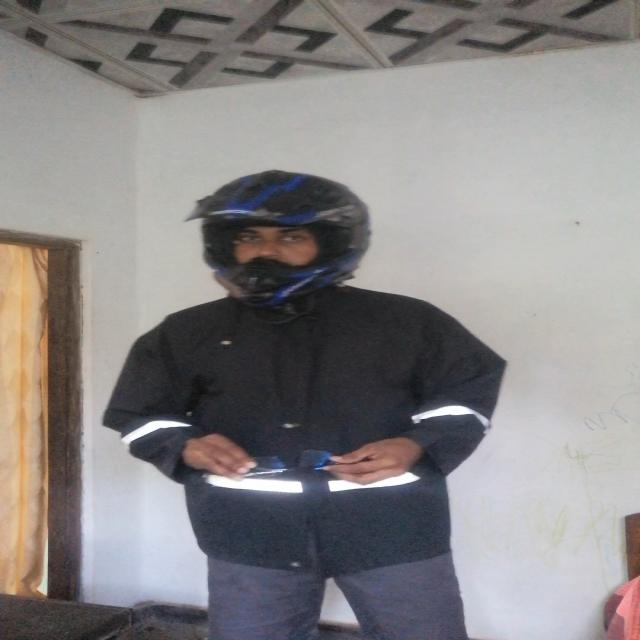Helmet_Wearer: (200, 166, 373, 294)
Jacket_Wearer: (110, 284, 512, 554)
